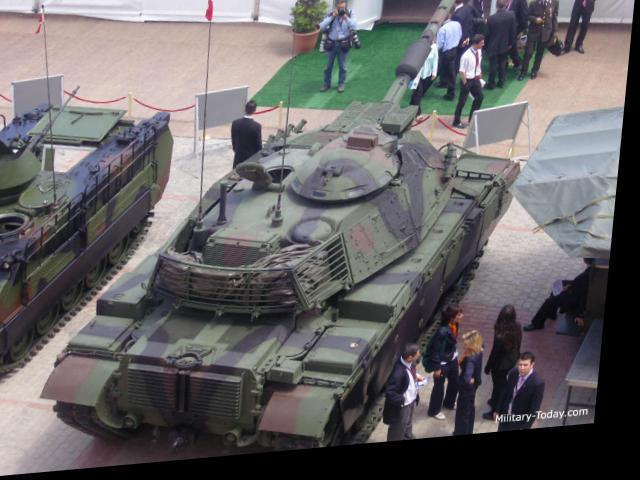other: (538, 263, 605, 349), (317, 3, 364, 101), (434, 314, 478, 414), (493, 306, 534, 400), (393, 348, 430, 446), (480, 6, 517, 95), (526, 0, 562, 87), (434, 16, 467, 110), (511, 360, 551, 433), (456, 45, 488, 125), (467, 339, 493, 435), (230, 103, 271, 162), (570, 0, 605, 61), (461, 0, 494, 48)
tank: (58, 102, 538, 449), (0, 102, 177, 367), (513, 117, 627, 253)
